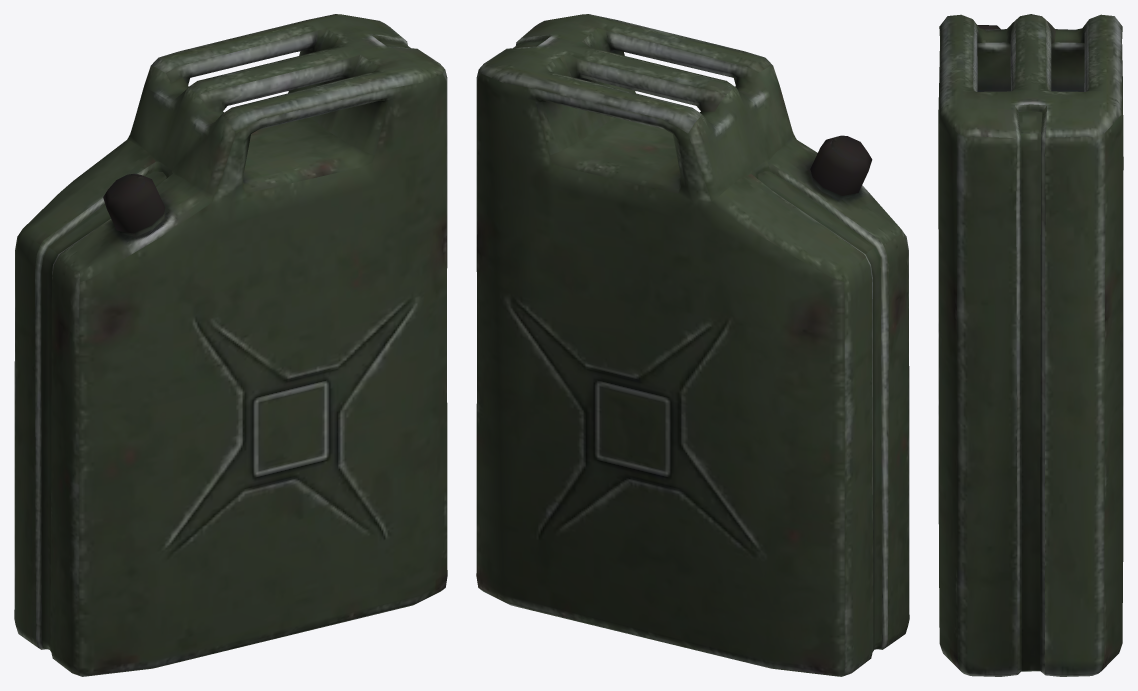
Rendered from p_jerry_can.glb.
3 views of the same model, side by side, from view 1: azimuth 30°, elevation 25°; view 2: azimuth 150°, elevation 25°; view 3: azimuth 270°, elevation 25° (orthographic). The views are drawn at different scales.
Parts seen in each view (by area): view 1: JerryCan_LP; view 2: JerryCan_LP; view 3: JerryCan_LP.
Boxes of the visible parts, <box> form: JerryCan_LP: <box>14,14,447,676</box>; JerryCan_LP: <box>476,14,909,676</box>; JerryCan_LP: <box>938,14,1123,676</box>.
Size of the model in its own units: 0.506 by 0.6931 by 0.209.
1 material, 1 textured.
